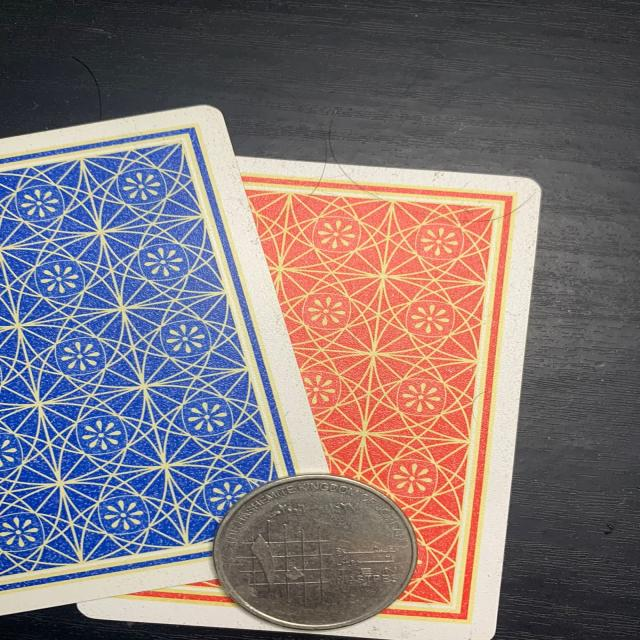10-coins: (212, 472, 419, 630)
